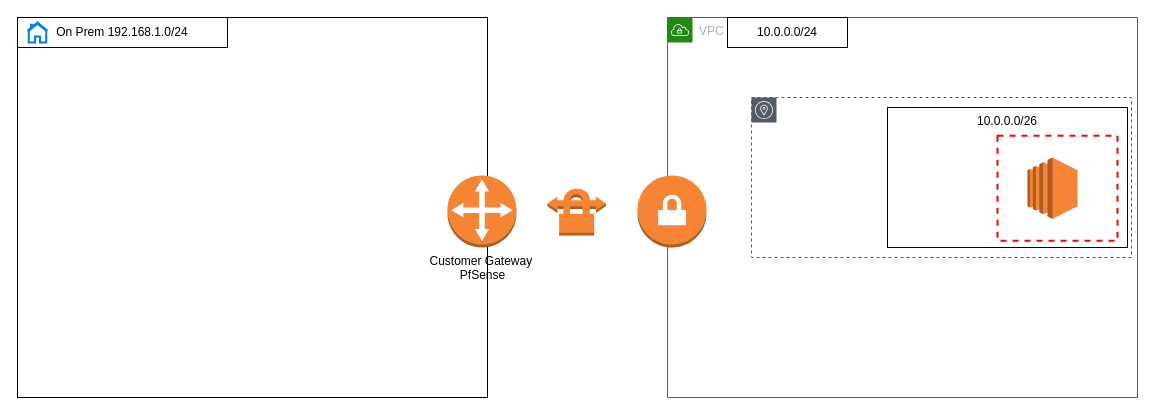
Some shapes in this 1155 by 415 pixel diagram are drawn without their labels. Here are the shapes that lost their labels. From the top down, the box of each, then its label:
(750, 96, 1132, 258): Availability zone
(996, 134, 1118, 241): Security Group
(546, 186, 606, 236): VPN Connection
